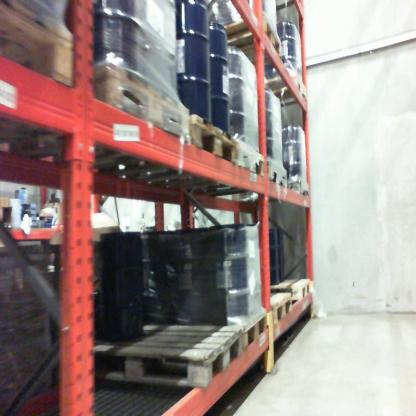pallet: (14, 61, 191, 198), (4, 1, 92, 133), (75, 324, 243, 390), (108, 114, 235, 187), (120, 303, 272, 357), (160, 128, 263, 206), (186, 162, 292, 202), (217, 14, 288, 65), (220, 292, 297, 334), (241, 69, 315, 103), (255, 273, 312, 304), (2, 189, 29, 233), (283, 171, 308, 210)
